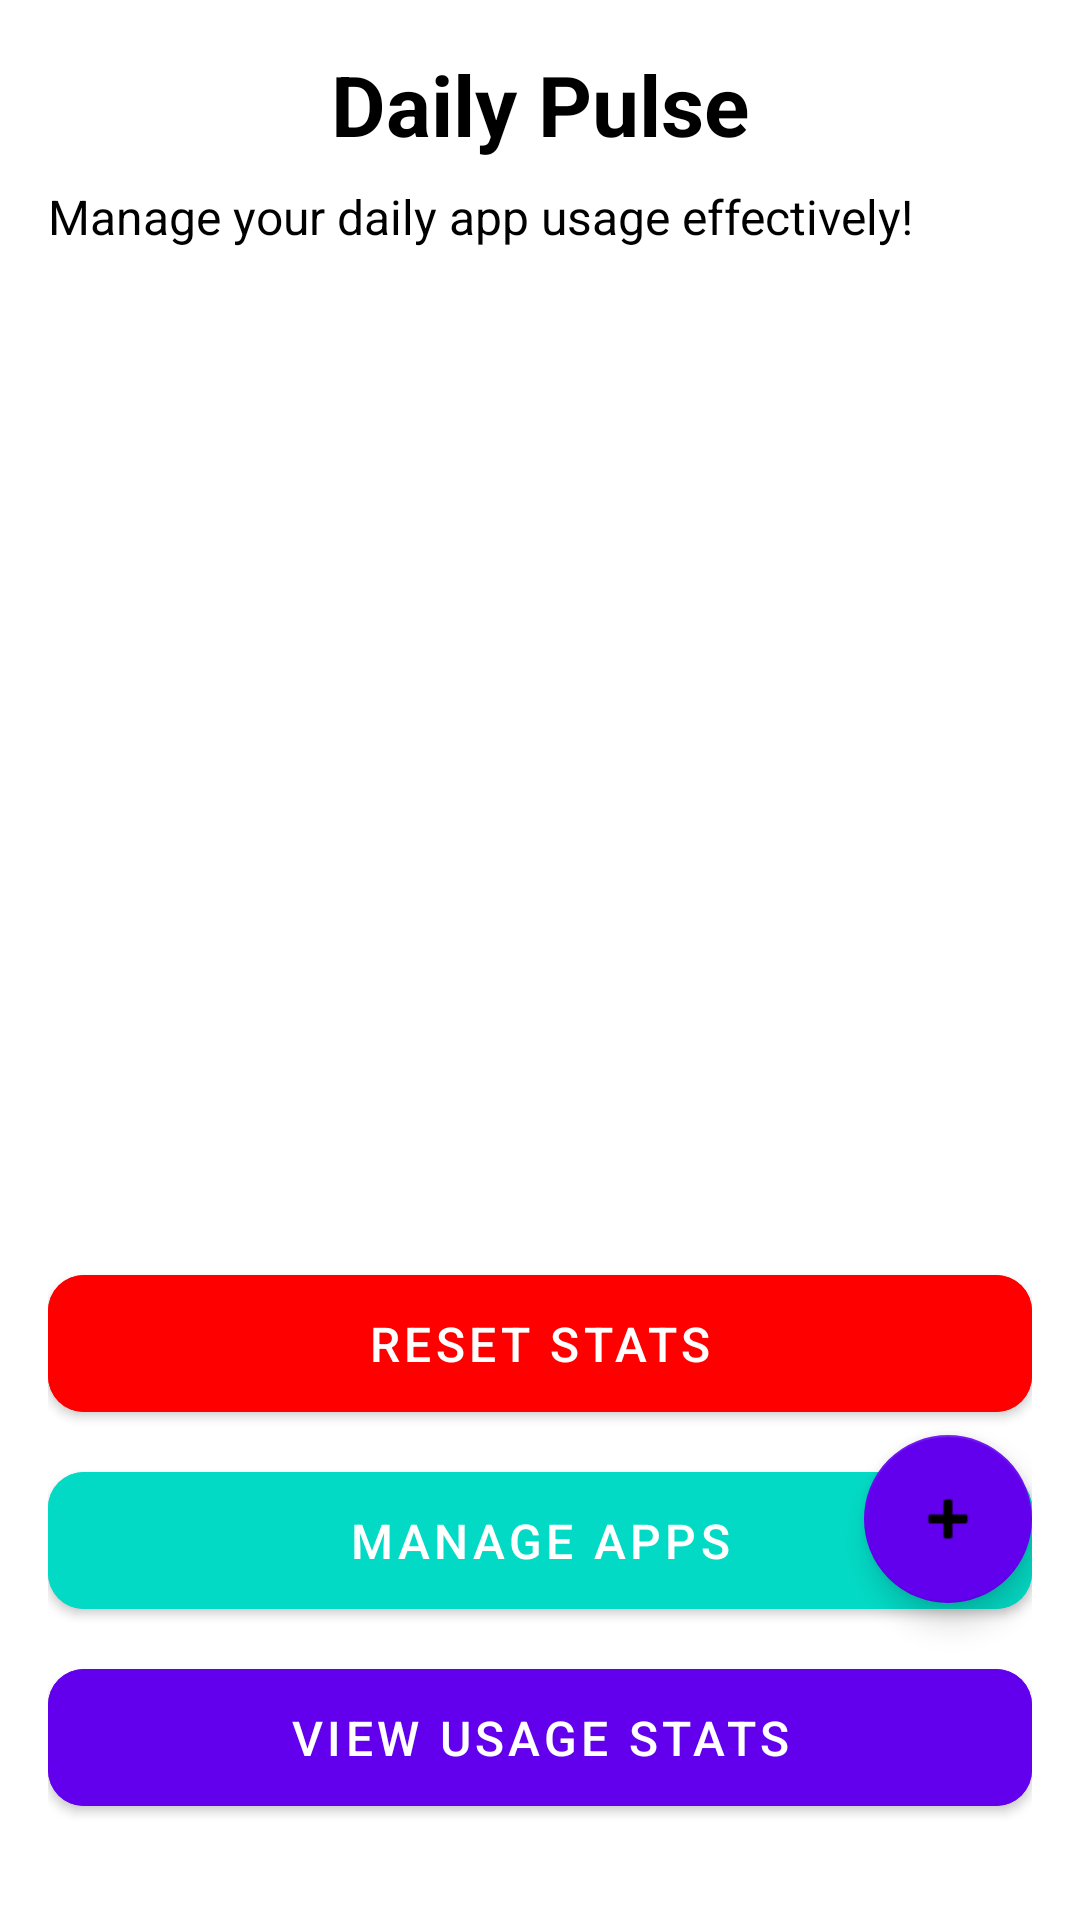

Icons on this 1080w x 1920h Android screen, each with the point to tap as (x=x, y=y):
Add Task: (x=948, y=1519)
